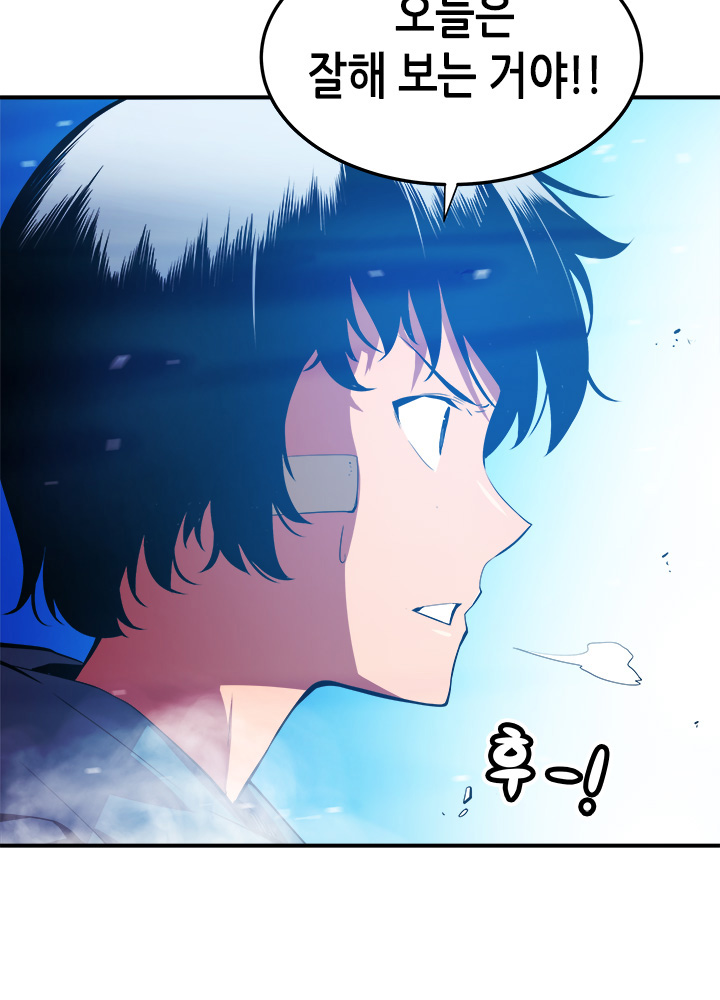dialog box: (224, 1, 669, 235)
text: (292, 1, 623, 139)
